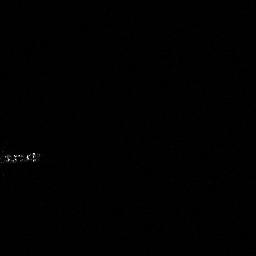ship: (5, 152, 35, 163)
